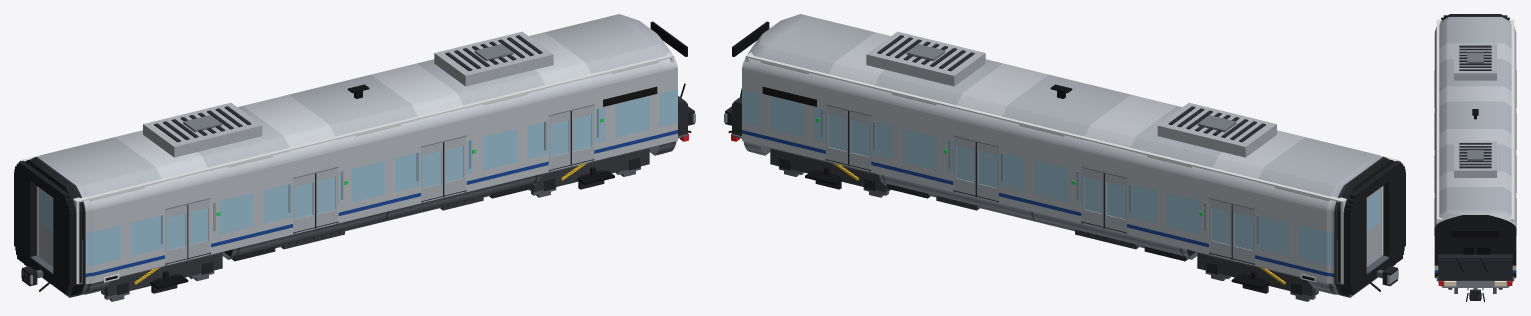
The model's file is r211_front.obj.
The picture shows the model from 3 angles, left to right: view 1: azimuth 30°, elevation 25°; view 2: azimuth 150°, elevation 25°; view 3: azimuth 270°, elevation 25°; orthographic projection. The views are drawn at different scales.
Parts seen in each view (by area): view 1: SHELL, SHELL_roof, SHELL_diaphragm, SHELL_ceiling, BOGEY_REAR, BOGEY_FRONT, FRAME, EXTERNAL_DOOR_9_CG_DR2_TOGGLE_TL_-0.61_X, EXTERNAL_DOOR_3_CG_DR1_TOGGLE_TL_-0.61_X, EXTERNAL_DOOR_15_CG_DR3_TOGGLE_TL_-0.61_X, EXTERNAL_DOOR_21_CG_DR4_TOGGLE_TL_-0.61_X, EXTERNAL_DOOR_22_CG_DR4_TOGGLE_TL_0.61_X (+7 smaller); view 2: SHELL, SHELL_roof, SHELL_diaphragm, SHELL_ceiling, BOGEY_REAR, BOGEY_FRONT, FRAME, EXTERNAL_DOOR_12_CG_DL2_TOGGLE_TL_-0.61_X, EXTERNAL_DOOR_6_CG_DL1_TOGGLE_TL_-0.61_X, EXTERNAL_DOOR_18_CG_DL3_TOGGLE_TL_-0.61_X, EXTERNAL_DOOR_24_CG_DL4_TOGGLE_TL_-0.61_X, EXTERNAL_DOOR_25_CG_DL4_TOGGLE_TL_0.61_X (+7 smaller); view 3: SHELL, SHELL_roof, SHELL_desk, SHELL_ceiling, SHELL_destbox, SHELL_handle, FRAME, HEADLIGHT_1.
Boxes of the visible parts, <box> form: SHELL: <box>24,14,677,297</box>; SHELL_roof: <box>143,31,553,157</box>; SHELL_diaphragm: <box>14,160,74,294</box>; SHELL_ceiling: <box>22,16,671,202</box>; BOGEY_REAR: <box>104,252,222,296</box>; BOGEY_FRONT: <box>531,148,649,192</box>; FRAME: <box>21,106,695,291</box>; EXTERNAL_DOOR_9_CG_DR2_TOGGLE_TL_-0.61_X: <box>293,173,316,232</box>; EXTERNAL_DOOR_3_CG_DR1_TOGGLE_TL_-0.61_X: <box>165,204,188,263</box>; EXTERNAL_DOOR_15_CG_DR3_TOGGLE_TL_-0.61_X: <box>421,142,444,201</box>; EXTERNAL_DOOR_21_CG_DR4_TOGGLE_TL_-0.61_X: <box>548,111,571,169</box>; EXTERNAL_DOOR_22_CG_DR4_TOGGLE_TL_0.61_X: <box>572,105,594,164</box>; SHELL: <box>742,14,1395,297</box>; SHELL_roof: <box>866,31,1276,157</box>; SHELL_diaphragm: <box>1345,160,1405,294</box>; SHELL_ceiling: <box>748,16,1397,202</box>; BOGEY_REAR: <box>1197,252,1315,296</box>; BOGEY_FRONT: <box>770,148,888,192</box>; FRAME: <box>724,106,1398,291</box>; EXTERNAL_DOOR_12_CG_DL2_TOGGLE_TL_-0.61_X: <box>1103,173,1126,232</box>; EXTERNAL_DOOR_6_CG_DL1_TOGGLE_TL_-0.61_X: <box>1231,204,1254,263</box>; EXTERNAL_DOOR_18_CG_DL3_TOGGLE_TL_-0.61_X: <box>975,142,998,201</box>; EXTERNAL_DOOR_24_CG_DL4_TOGGLE_TL_-0.61_X: <box>848,111,871,169</box>; EXTERNAL_DOOR_25_CG_DL4_TOGGLE_TL_0.61_X: <box>825,105,847,164</box>; SHELL: <box>1434,14,1516,287</box>; SHELL_roof: <box>1454,44,1496,177</box>; SHELL_desk: <box>1438,247,1512,280</box>; SHELL_ceiling: <box>1436,20,1514,218</box>; SHELL_destbox: <box>1451,230,1499,237</box>; SHELL_handle: <box>1434,70,1516,235</box>; FRAME: <box>1466,287,1484,301</box>; HEADLIGHT_1: <box>1444,281,1506,286</box>.
Bounding box in the file's own units: 19.64 × 4.01 × 3.08.
1 material, 1 textured.
